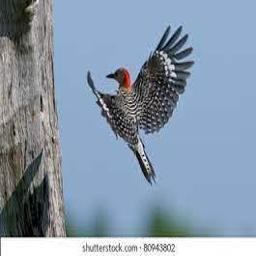Woodpecker: (87, 25, 195, 186)
